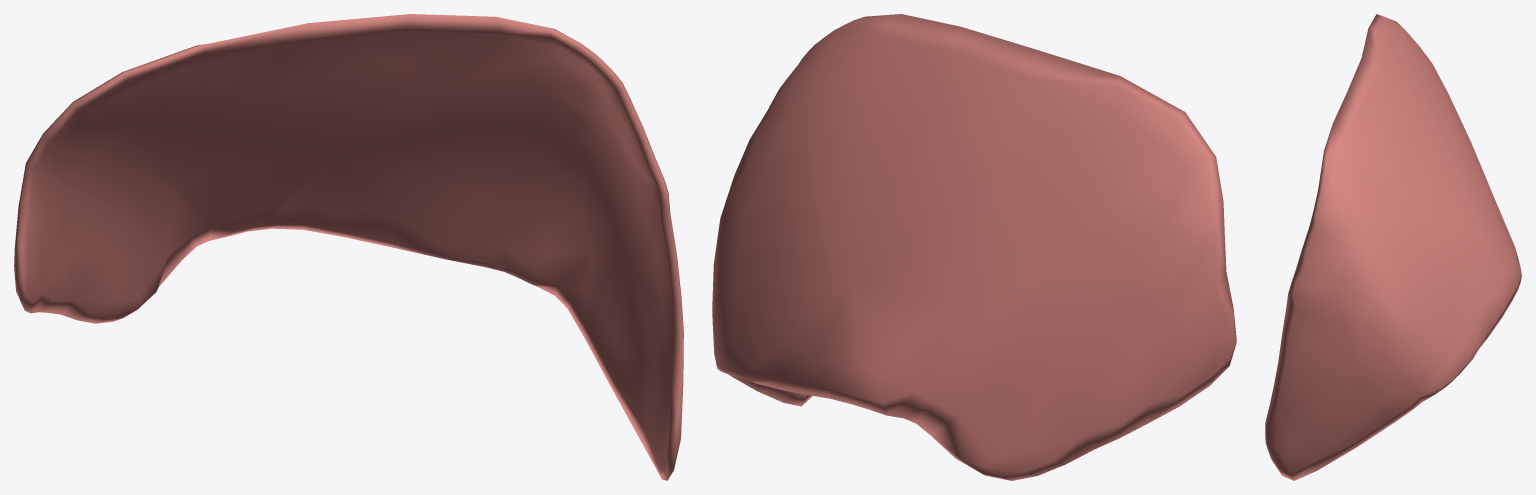
3 renders of one model, left to right at view 1: azimuth 30°, elevation 25°; view 2: azimuth 150°, elevation 25°; view 3: azimuth 270°, elevation 25°, orthographic. The views are drawn at different scales.
Parts seen in each view (by area): view 1: ZA_2e26755d3663f1de; view 2: ZA_2e26755d3663f1de; view 3: ZA_2e26755d3663f1de.
Part boxes in pixels (bbox=[...]): ZA_2e26755d3663f1de: bbox=[14, 14, 683, 480]; ZA_2e26755d3663f1de: bbox=[712, 14, 1236, 480]; ZA_2e26755d3663f1de: bbox=[1265, 14, 1521, 480].
Size of the model in its own units: 0.0222 by 0.0179 by 0.0128.
